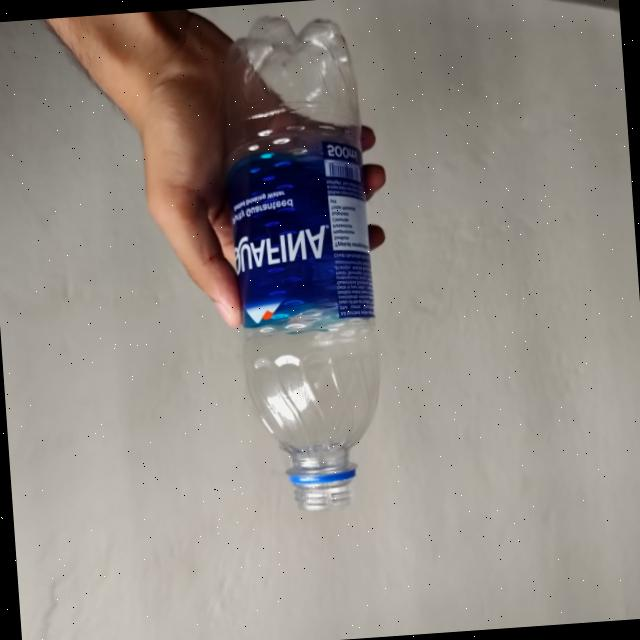bottle: (218, 24, 421, 522)
label: (234, 134, 378, 323)
